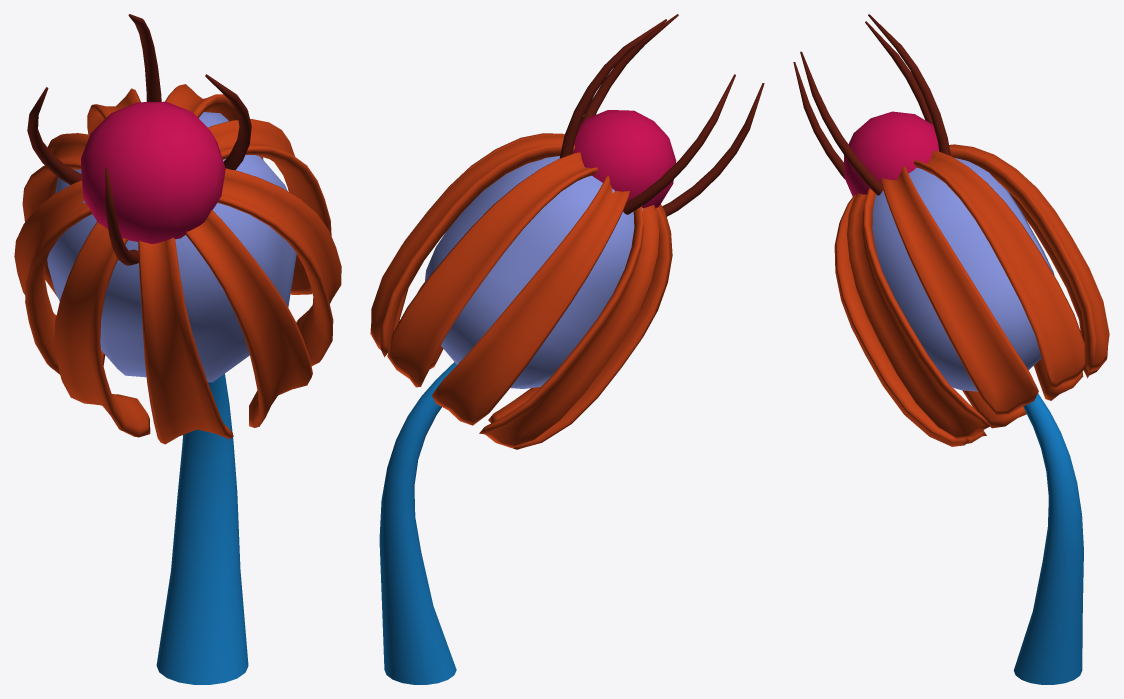
The picture shows the model from 3 angles, left to right: view 1: azimuth 30°, elevation 25°; view 2: azimuth 150°, elevation 25°; view 3: azimuth 270°, elevation 25°; orthographic projection. The views are drawn at different scales.
Visible parts, largest first — view 1: Cylinder002; view 2: Cylinder002; view 3: Cylinder002.
Part boxes in pixels (box(x1,y1,x2,y2)): Cylinder002: box(14, 14, 341, 684); Cylinder002: box(370, 14, 764, 684); Cylinder002: box(793, 14, 1109, 684).
Bounding box in the file's own units: 0.9556 × 2 × 0.9772.
